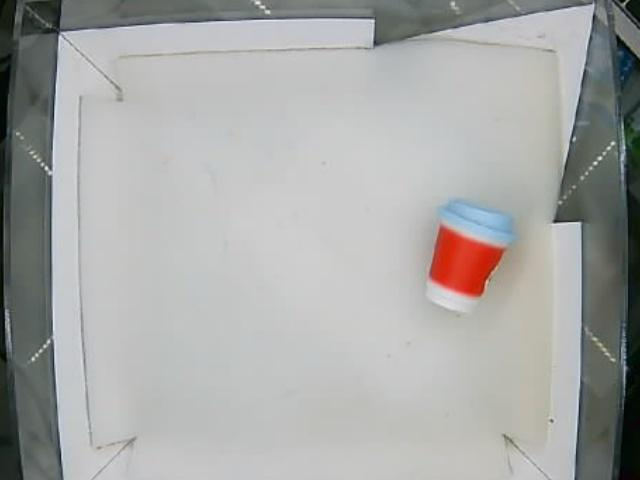Cup: (424, 198, 514, 313)
